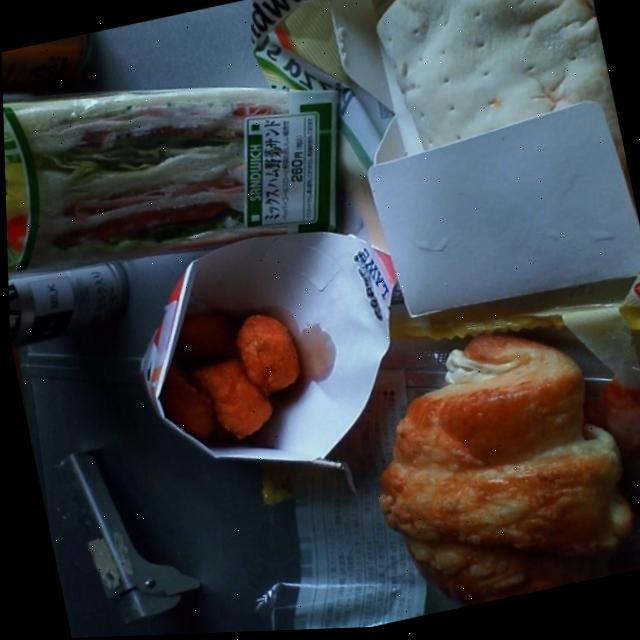三明治: (1, 21, 372, 314), (337, 313, 640, 623), (354, 0, 617, 172)
鸡肉料理 含炸鸡: (124, 272, 335, 482)
